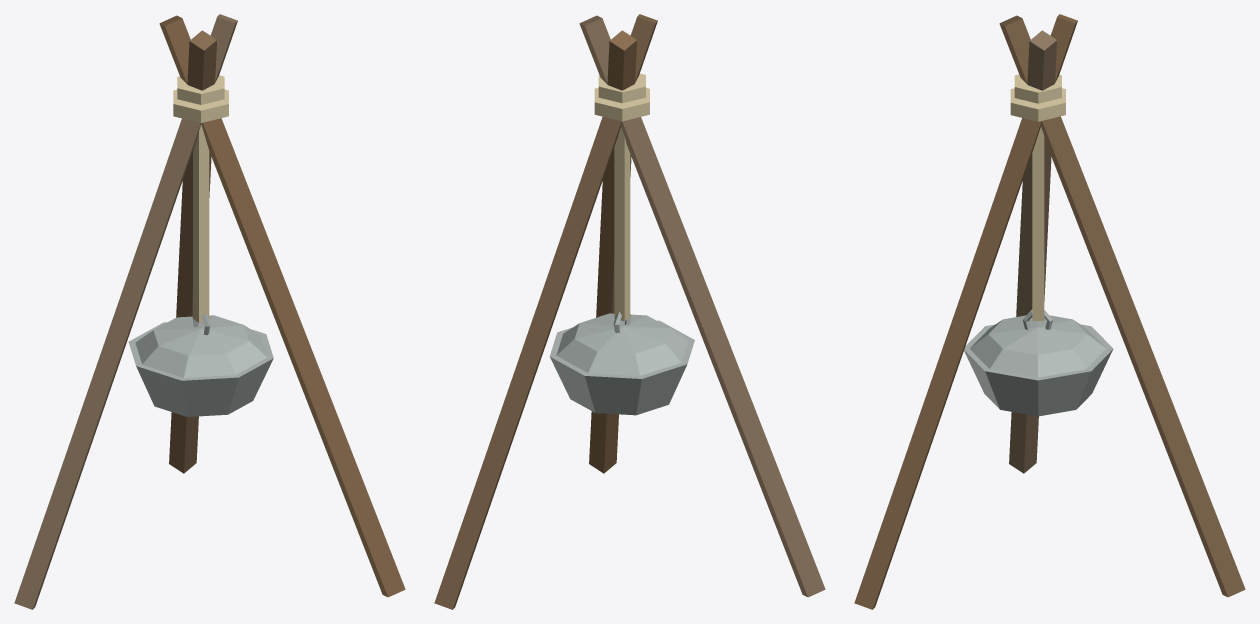
Rendered from Cooking_Place.fbx.
3 views of the same model, side by side, from view 1: azimuth 30°, elevation 25°; view 2: azimuth 150°, elevation 25°; view 3: azimuth 270°, elevation 25° (orthographic).
Parts seen in each view (by area): view 1: Cooking_Place; view 2: Cooking_Place; view 3: Cooking_Place.
Boxes of the visible parts, x1=… form: Cooking_Place: x1=14, y1=14, x2=405, y2=609; Cooking_Place: x1=434, y1=14, x2=825, y2=609; Cooking_Place: x1=854, y1=14, x2=1245, y2=609.
Bounding box in the file's own units: 76.23 × 126 × 83.02.
1 material, 1 textured.
